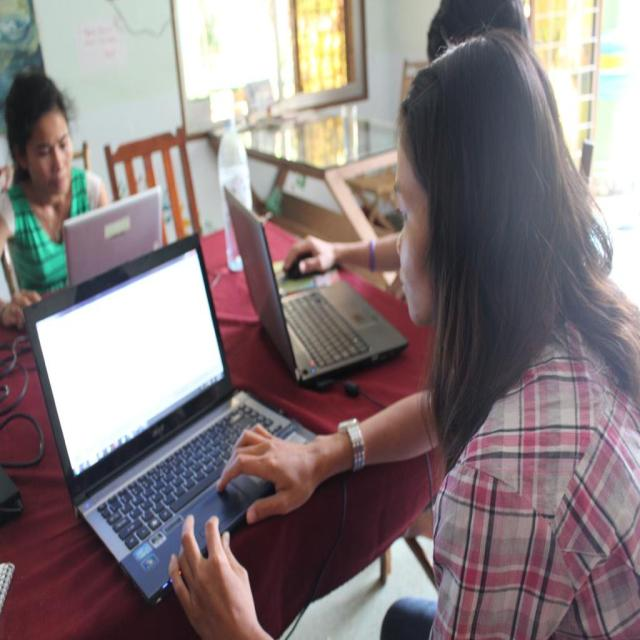laptop: (44, 238, 252, 597), (234, 200, 411, 378)
